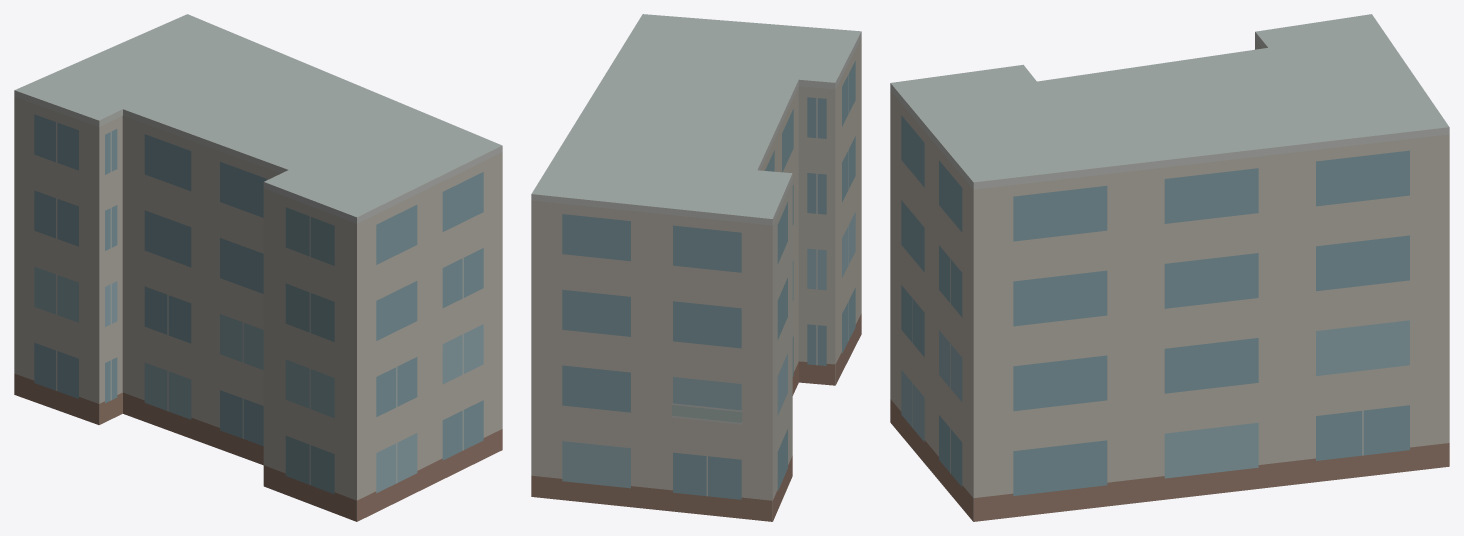
The model's file is survey-upis-32712814.glb.
3 views of the same model, side by side, from view 1: azimuth 30°, elevation 25°; view 2: azimuth 150°, elevation 25°; view 3: azimuth 270°, elevation 25° (orthographic). The views are drawn at different scales.
Visible parts, largest first — view 1: survey-upis-32712814.tmp; view 2: survey-upis-32712814.tmp; view 3: survey-upis-32712814.tmp.
Part boxes in pixels (x1,y1,x2,y2): survey-upis-32712814.tmp: [14, 14, 502, 521]; survey-upis-32712814.tmp: [531, 14, 861, 521]; survey-upis-32712814.tmp: [890, 14, 1449, 521].
Size of the model in its own units: 12.24 by 11.5 by 17.18.
